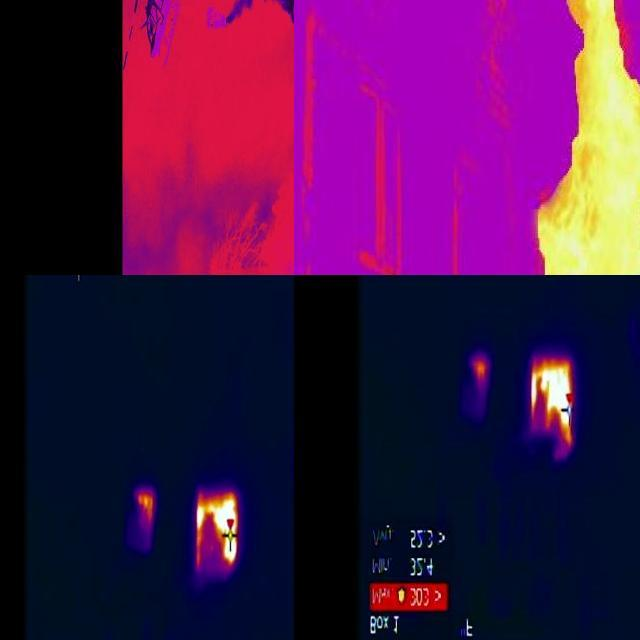fire: (503, 1, 640, 276), (529, 358, 573, 456), (194, 488, 239, 574), (129, 486, 156, 527), (469, 354, 489, 388)
